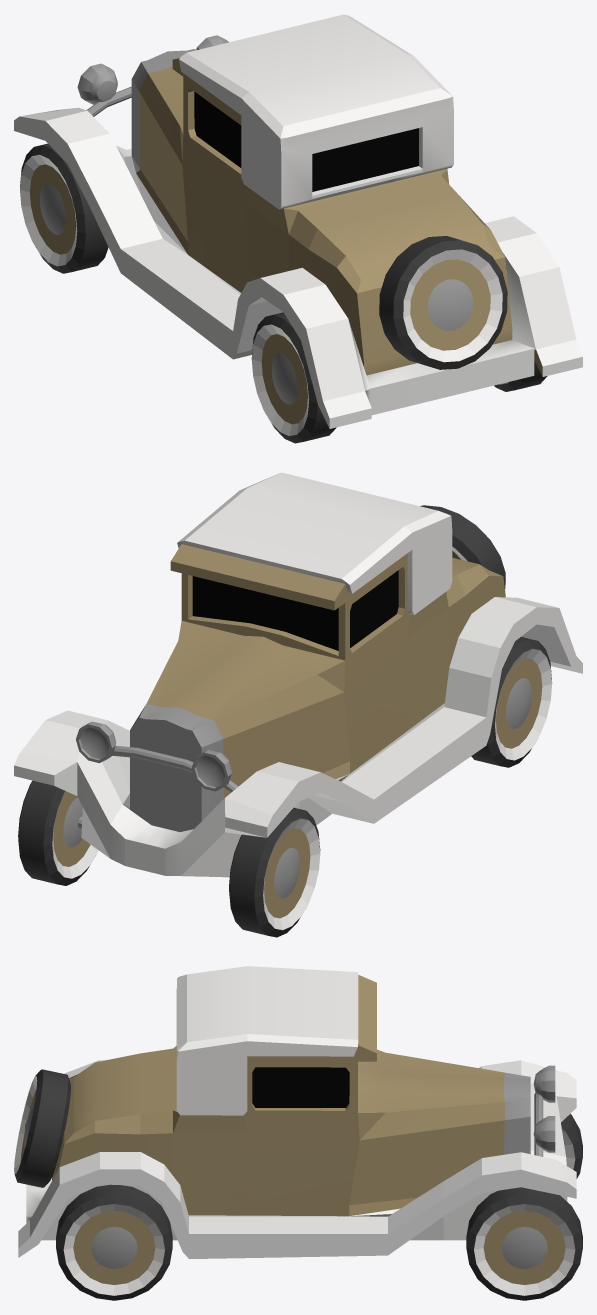
The model's file is wreck.gltf.
The picture shows the model from 3 angles, top to bottom: view 1: azimuth 30°, elevation 25°; view 2: azimuth 150°, elevation 25°; view 3: azimuth 270°, elevation 25°; orthographic projection. The views are drawn at different scales.
Visible parts, largest first — view 1: car, spare_tire, wheel_top_left, wheel_bot_left, left_headlight; view 2: car, wheel_top_left, wheel_bot_left, wheel_top_right, spare_tire, left_headlight, right_headlight, bar; view 3: car, wheel_bot_right, wheel_top_right, spare_tire, wheel_top_left, right_headlight, left_headlight.
Boxes of the visible parts, x1,y1,x2,y2 form: car: (14,14,582,428); spare_tire: (379,236,507,369); wheel_top_left: (20,143,108,273); wheel_bot_left: (251,312,336,443); left_headlight: (77,63,117,104); car: (14,472,582,877); wheel_top_left: (229,807,320,937); wheel_bot_left: (471,637,552,767); wheel_top_right: (18,780,98,885); spare_tire: (420,505,505,589); left_headlight: (191,750,231,791); right_headlight: (76,721,115,763); bar: (112,746,238,792); car: (18,966,576,1258); wheel_bot_right: (56,1184,172,1300); wheel_top_right: (466,1187,582,1300); spare_tire: (14,1069,70,1187); wheel_top_left: (561,1114,582,1178); right_headlight: (533,1116,555,1152); left_headlight: (533,1065,555,1102).
Size of the model in its own units: 0.0961 by 0.1024 by 0.2113.
